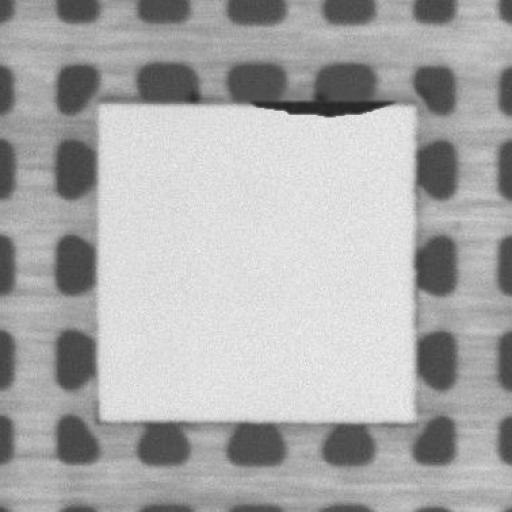DIE_BROKEN: (252, 92, 398, 117)
